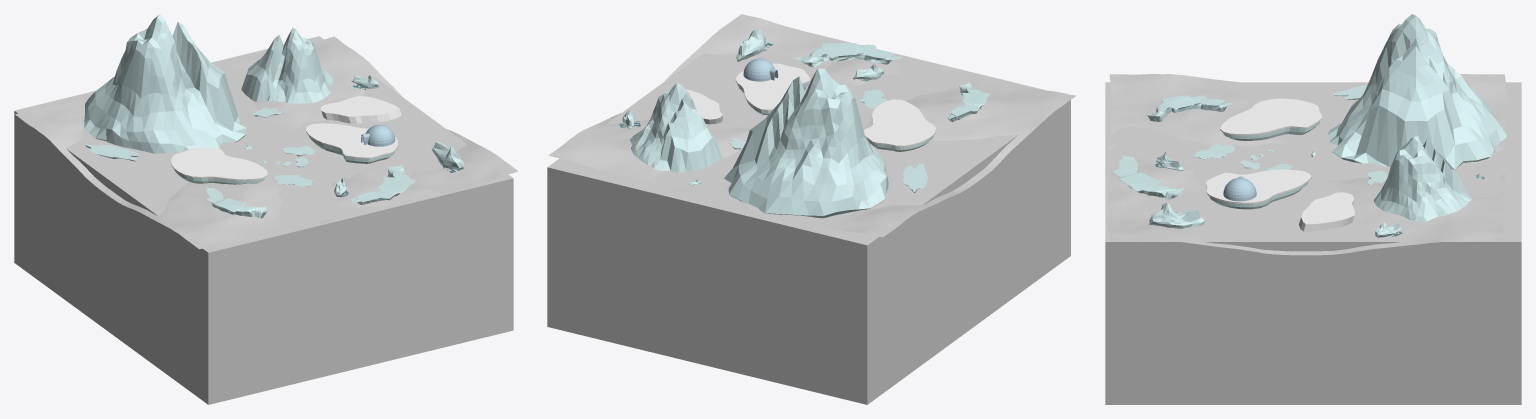
The model's file is 破碎的冰山.fbx.
3 renders of one model, left to right at view 1: azimuth 30°, elevation 25°; view 2: azimuth 150°, elevation 25°; view 3: azimuth 270°, elevation 25°, orthographic. The views are drawn at different scales.
Visible parts, largest first — view 1: Ocean, 平面, Ico 球體.002, Ico 球體.003, 貝茲曲線.004, 貝茲曲線.003, 貝茲曲線.007, Cube, Cube.001, 雪屋, Ico 球體.006, 貝茲曲線.012; view 2: Ocean, 平面, Ico 球體.002, Ico 球體.003, 貝茲曲線.004, 貝茲曲線.003, Cube, Cube.001, 貝茲曲線.007, 雪屋, Ico 球體.006, 貝茲曲線.012; view 3: Ocean, 平面, Ico 球體.002, Ico 球體.003, 貝茲曲線.004, 貝茲曲線.003, 貝茲曲線.007, Cube, Cube.001, Ico 球體.006, 雪屋, 貝茲曲線.008.
Boxes of the visible parts, bbox=[...] form: Ocean: bbox=[14, 36, 513, 404]; 平面: bbox=[15, 36, 518, 249]; Ico 球體.002: bbox=[84, 14, 246, 153]; Ico 球體.003: bbox=[241, 28, 333, 103]; 貝茲曲線.004: bbox=[171, 147, 267, 184]; 貝茲曲線.003: bbox=[306, 123, 397, 163]; 貝茲曲線.007: bbox=[320, 96, 401, 123]; Cube: bbox=[351, 165, 415, 204]; Cube.001: bbox=[205, 187, 267, 218]; 雪屋: bbox=[361, 124, 395, 146]; Ico 球體.006: bbox=[432, 141, 464, 170]; 貝茲曲線.012: bbox=[85, 144, 138, 161]; Ocean: bbox=[547, 33, 1070, 404]; 平面: bbox=[548, 14, 1076, 237]; Ico 球體.002: bbox=[724, 68, 888, 218]; Ico 球體.003: bbox=[630, 83, 722, 172]; 貝茲曲線.004: bbox=[863, 99, 935, 151]; 貝茲曲線.003: bbox=[735, 63, 810, 115]; Cube: bbox=[793, 43, 902, 67]; Cube.001: bbox=[946, 82, 989, 121]; 貝茲曲線.007: bbox=[686, 89, 722, 124]; 雪屋: bbox=[743, 58, 778, 81]; Ico 球體.006: bbox=[736, 28, 765, 61]; 貝茲曲線.012: bbox=[903, 163, 927, 192]; Ocean: bbox=[1105, 82, 1521, 404]; 平面: bbox=[1107, 74, 1507, 255]; Ico 球體.002: bbox=[1327, 14, 1506, 169]; Ico 球體.003: bbox=[1373, 136, 1471, 221]; 貝茲曲線.004: bbox=[1220, 98, 1322, 140]; 貝茲曲線.003: bbox=[1206, 169, 1311, 209]; 貝茲曲線.007: bbox=[1299, 192, 1354, 231]; Cube: bbox=[1113, 155, 1184, 200]; Cube.001: bbox=[1145, 95, 1231, 121]; Ico 球體.006: bbox=[1150, 202, 1204, 228]; 雪屋: bbox=[1223, 176, 1256, 201]; 貝茲曲線.008: bbox=[1194, 143, 1235, 159].
Bounding box in the file's own units: 18879 × 14691 × 19793.
